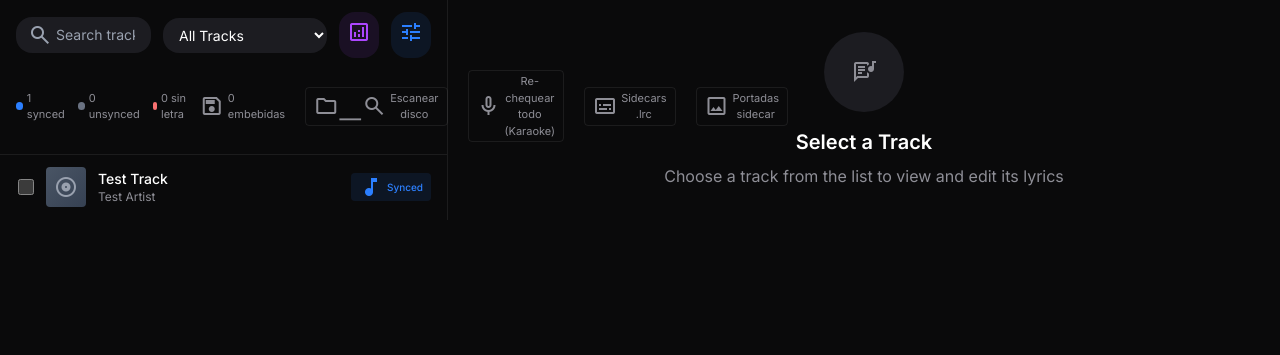
Test: LyricsView (fully wired tab) › Q-07: listening mode hides word timestamps without changing stored lyrics
Click the element with class "cursor-pointer". click: {"x": 66, "y": 187}
box: [0,155,447,219]
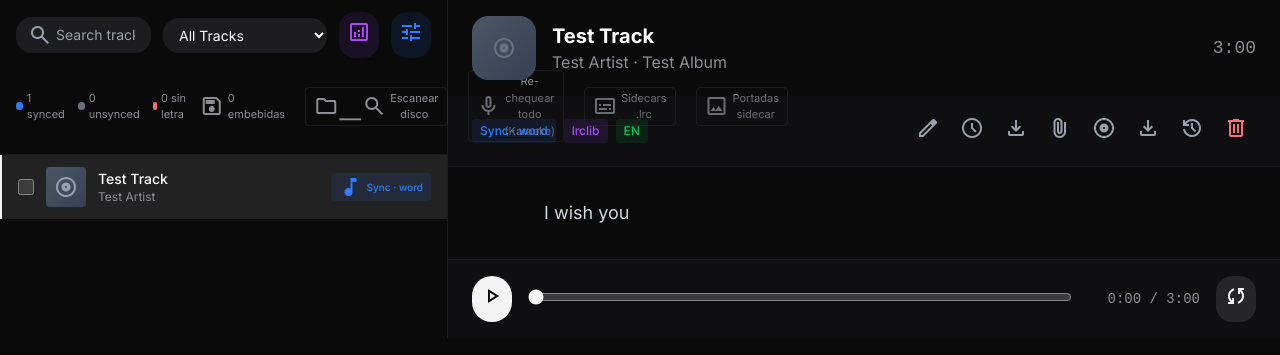
Expected: the element with class "synced-line" reads "I wish you", [544,202,629,223]
Click the button with test id "toggle-timestamps". click: {"x": 972, "y": 131}
box: [952,108,992,154]
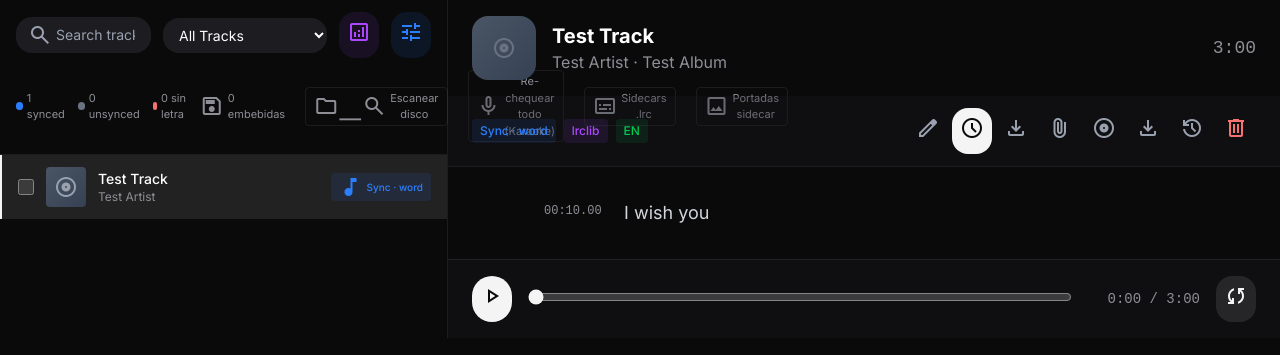
Expected: the text with class "timestamp" reads "00:10.00", [544,204,602,218]
